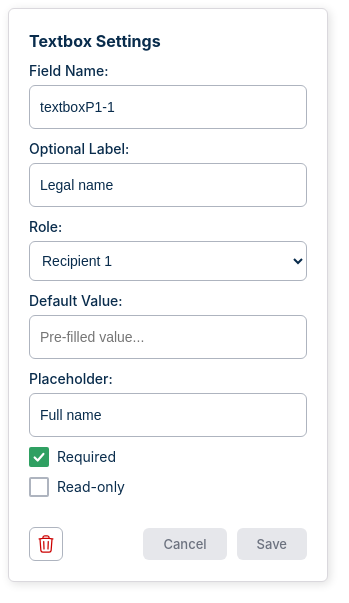
TemplateFieldProperties › resets edits and closes on cancel
This screenshot has width=349, height=603.
Expected: the heading "Textbox Settings" is shown, [29,31,161,51]
Type " edited" into the field labelled "Optional Label:" at (168, 185), box [29,163,307,207]
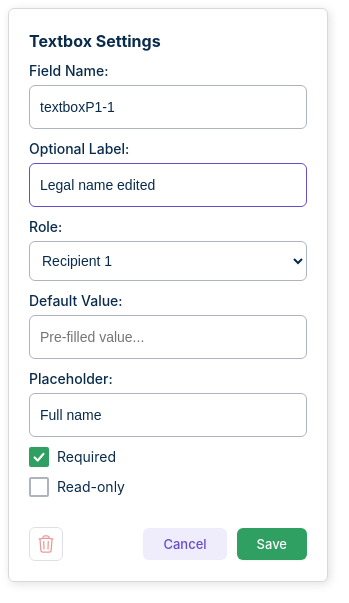
Click the button "Cancel" at (185, 544), box [143,528,227,560]
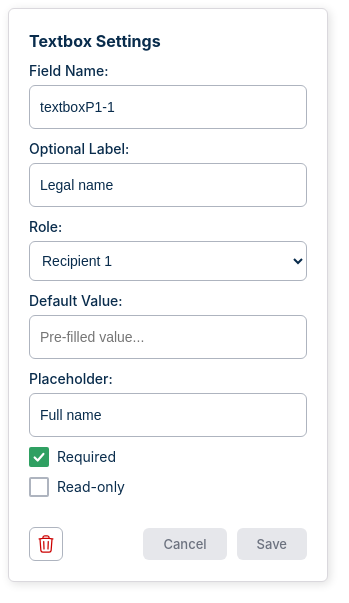
Expected: the field labelled "Optional Label:" holds "Legal name", [29,163,307,207]
